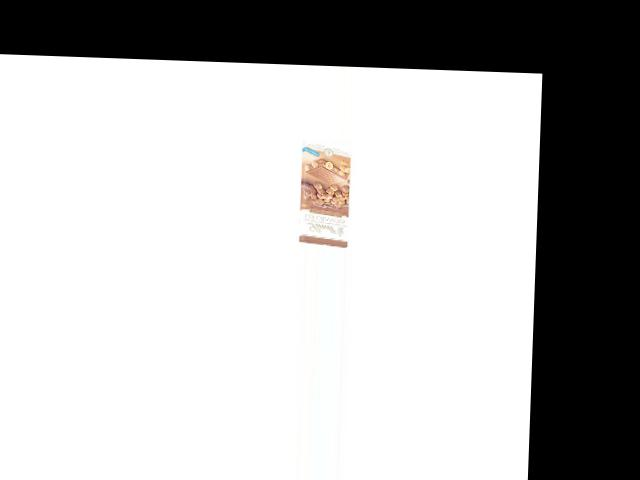chocolate: (295, 145, 359, 244)
